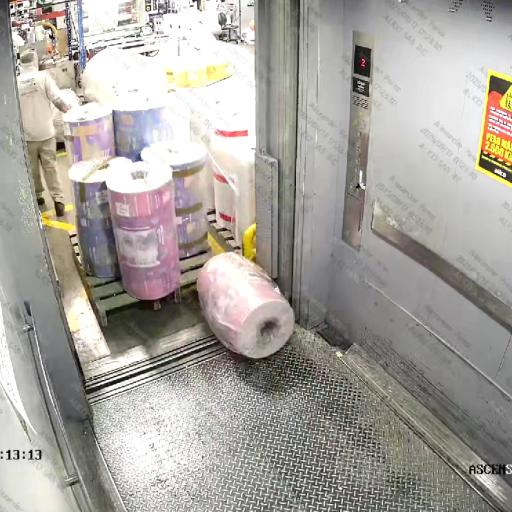rollos caidos: (87, 146, 318, 383)
